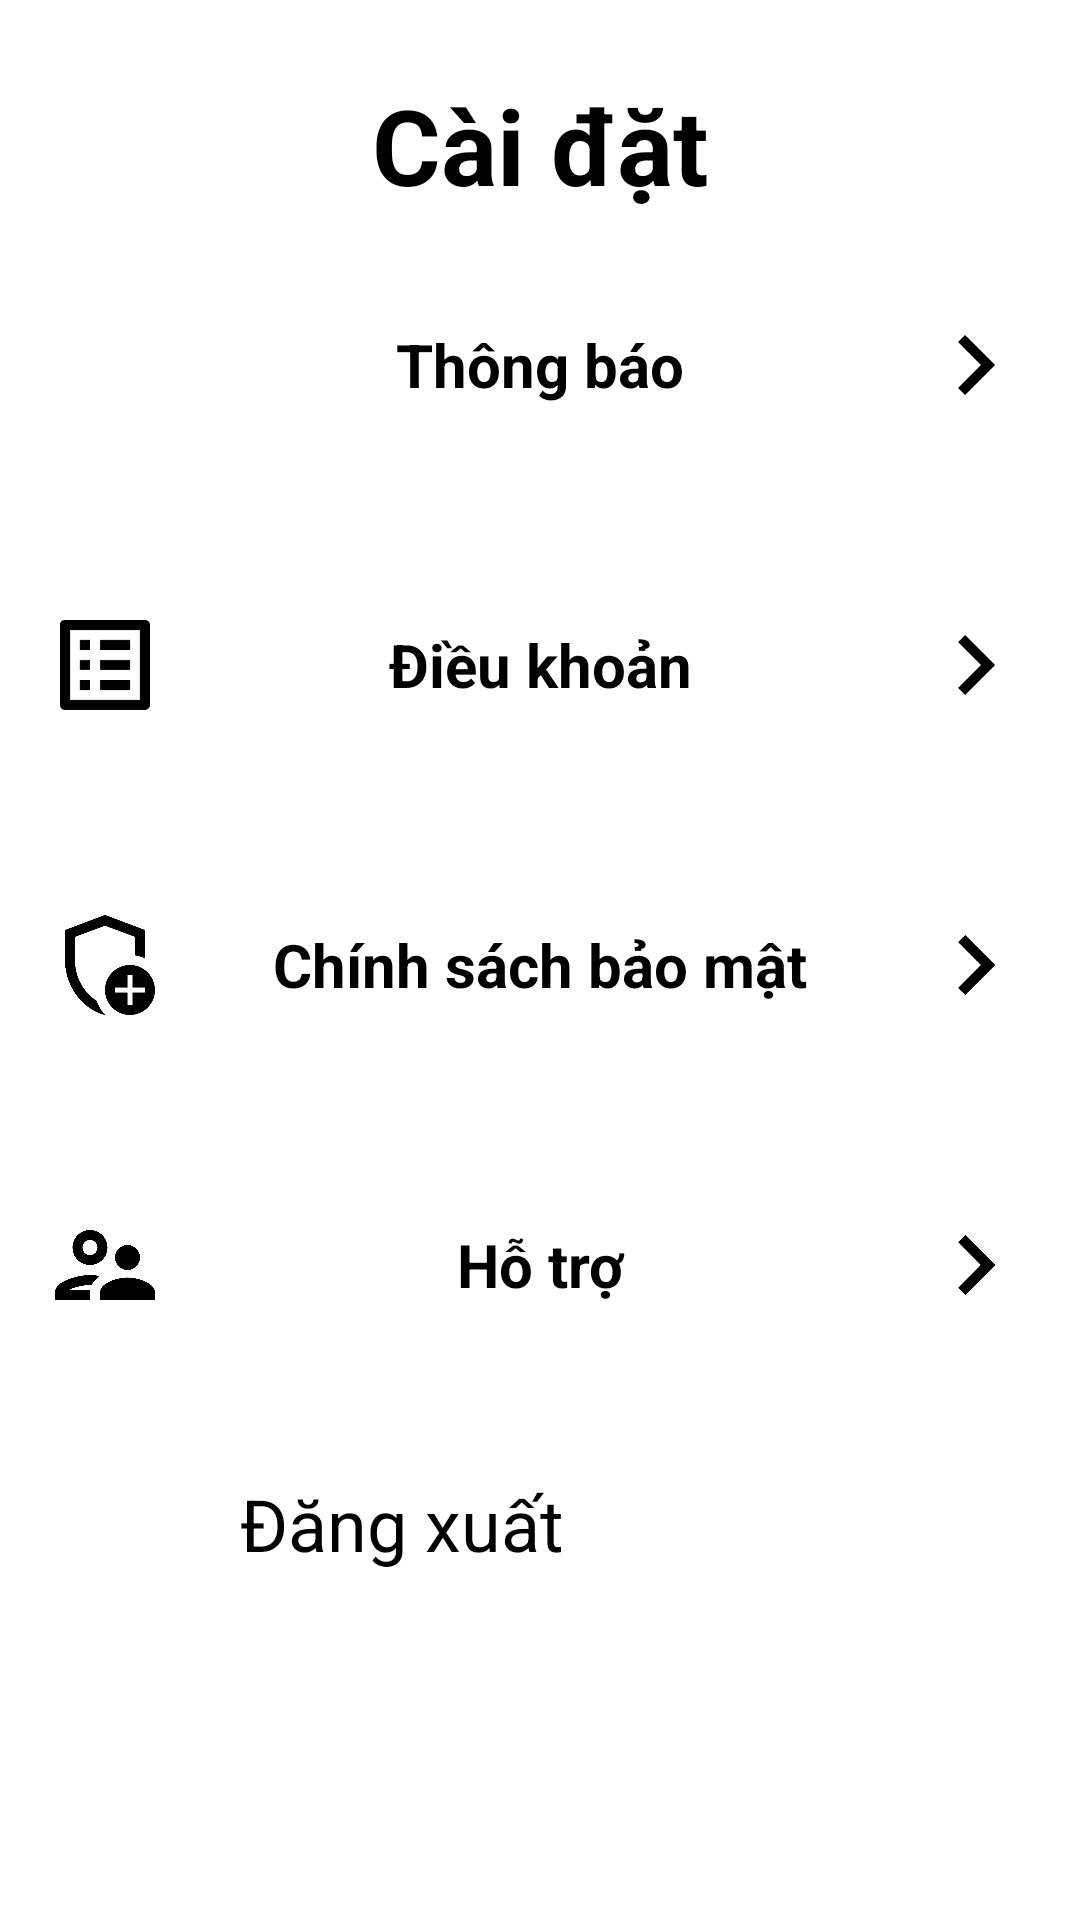

Named icons in this screenshot (1080 x 1920) and their bounding boxes, (x1,y1,x2,y2):
add moderator: (65,915,155,1015)
list: (60,620,150,710)
navigate next: (958,335,995,395), (958,635,995,695), (958,935,995,995), (958,1235,995,1295)
supervisor account: (55,1230,155,1300)
